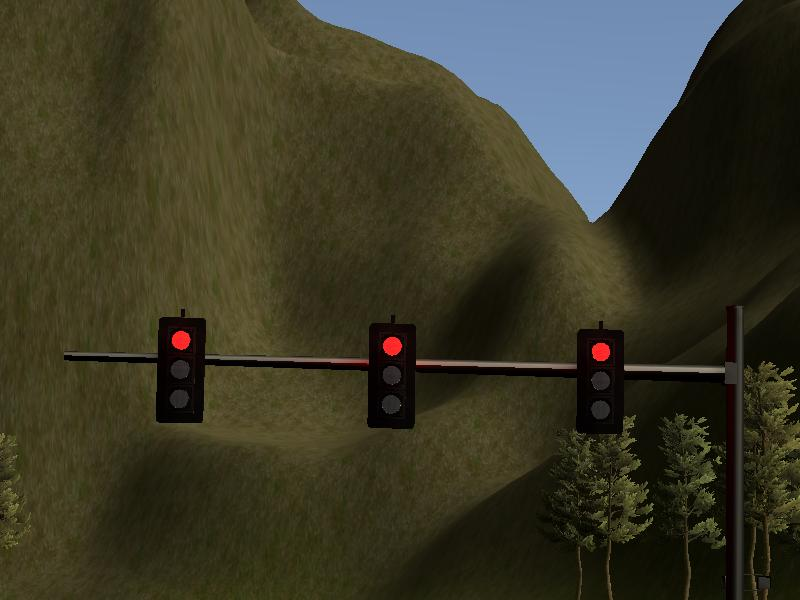red: (156, 315, 206, 425), (368, 322, 418, 432), (576, 327, 626, 437)
